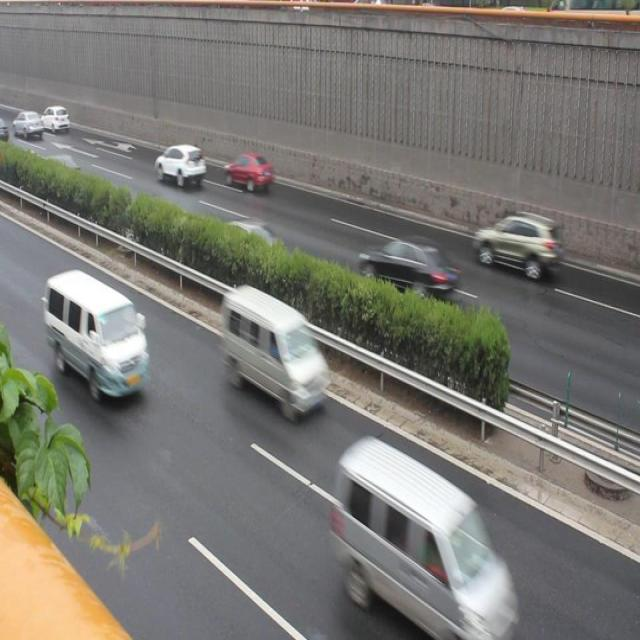car: (357, 233, 457, 311), (476, 210, 566, 284), (216, 213, 289, 261), (153, 138, 210, 189), (224, 150, 272, 196), (43, 144, 84, 190)
truck: (333, 436, 525, 640), (44, 266, 150, 408), (218, 282, 328, 416)
